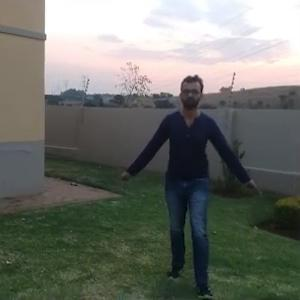land: (124, 72, 262, 285)
